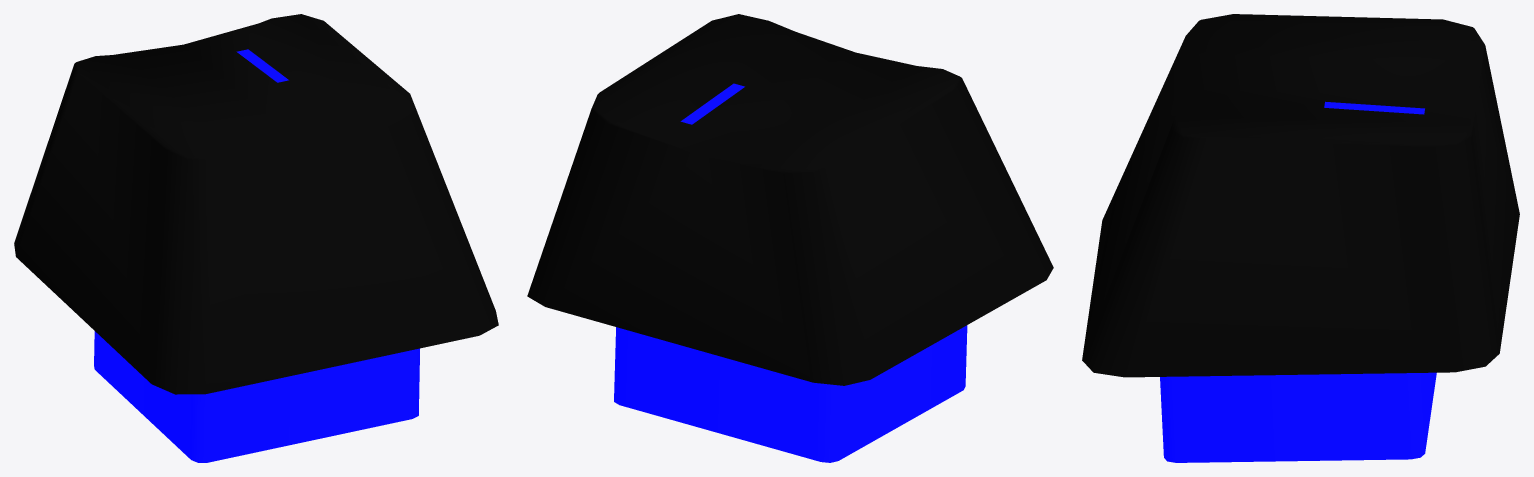
3 renders of one model, left to right at view 1: azimuth 30°, elevation 25°; view 2: azimuth 150°, elevation 25°; view 3: azimuth 270°, elevation 25°, orthographic. The views are drawn at different scales.
Parts seen in each view (by area): view 1: StudyShelf_523; view 2: StudyShelf_523; view 3: StudyShelf_523.
Boxes of the visible parts, x1,y1,x2,y2 form: StudyShelf_523: [14, 14, 498, 462]; StudyShelf_523: [527, 14, 1053, 462]; StudyShelf_523: [1082, 14, 1519, 462].
Bounding box in the file's own units: 4.35 × 3.62 × 4.35.
